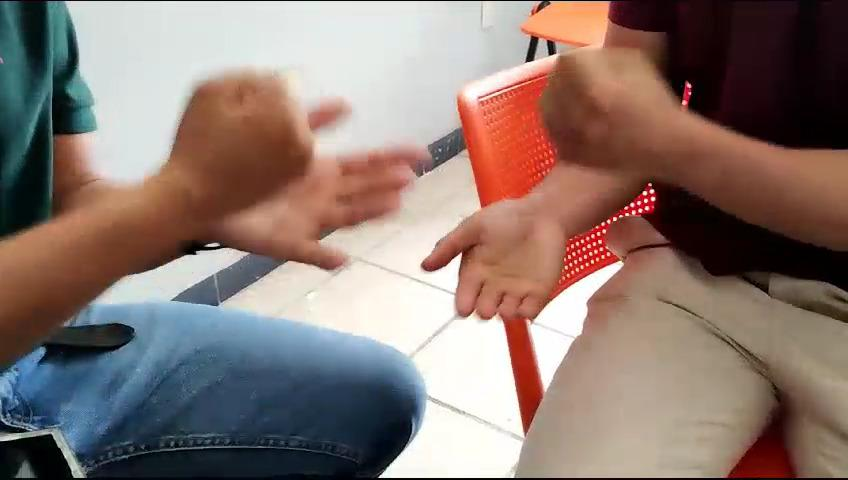Paper: (411, 165, 590, 378)
Stone: (142, 72, 337, 232)
